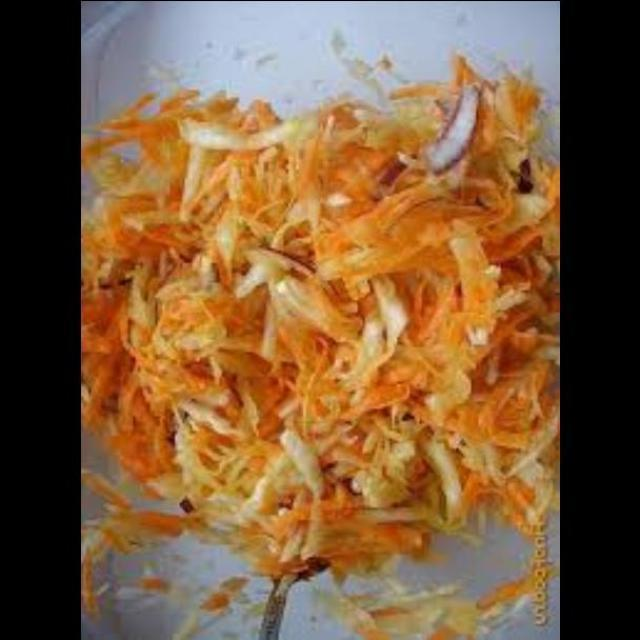Carrot: (330, 170, 540, 278), (80, 287, 166, 486), (332, 330, 523, 414), (416, 84, 486, 175), (80, 98, 168, 169), (312, 104, 395, 172)
cabbage: (172, 394, 302, 560), (164, 91, 292, 208), (362, 426, 490, 540), (232, 246, 332, 362), (324, 573, 476, 640), (150, 590, 261, 640)
